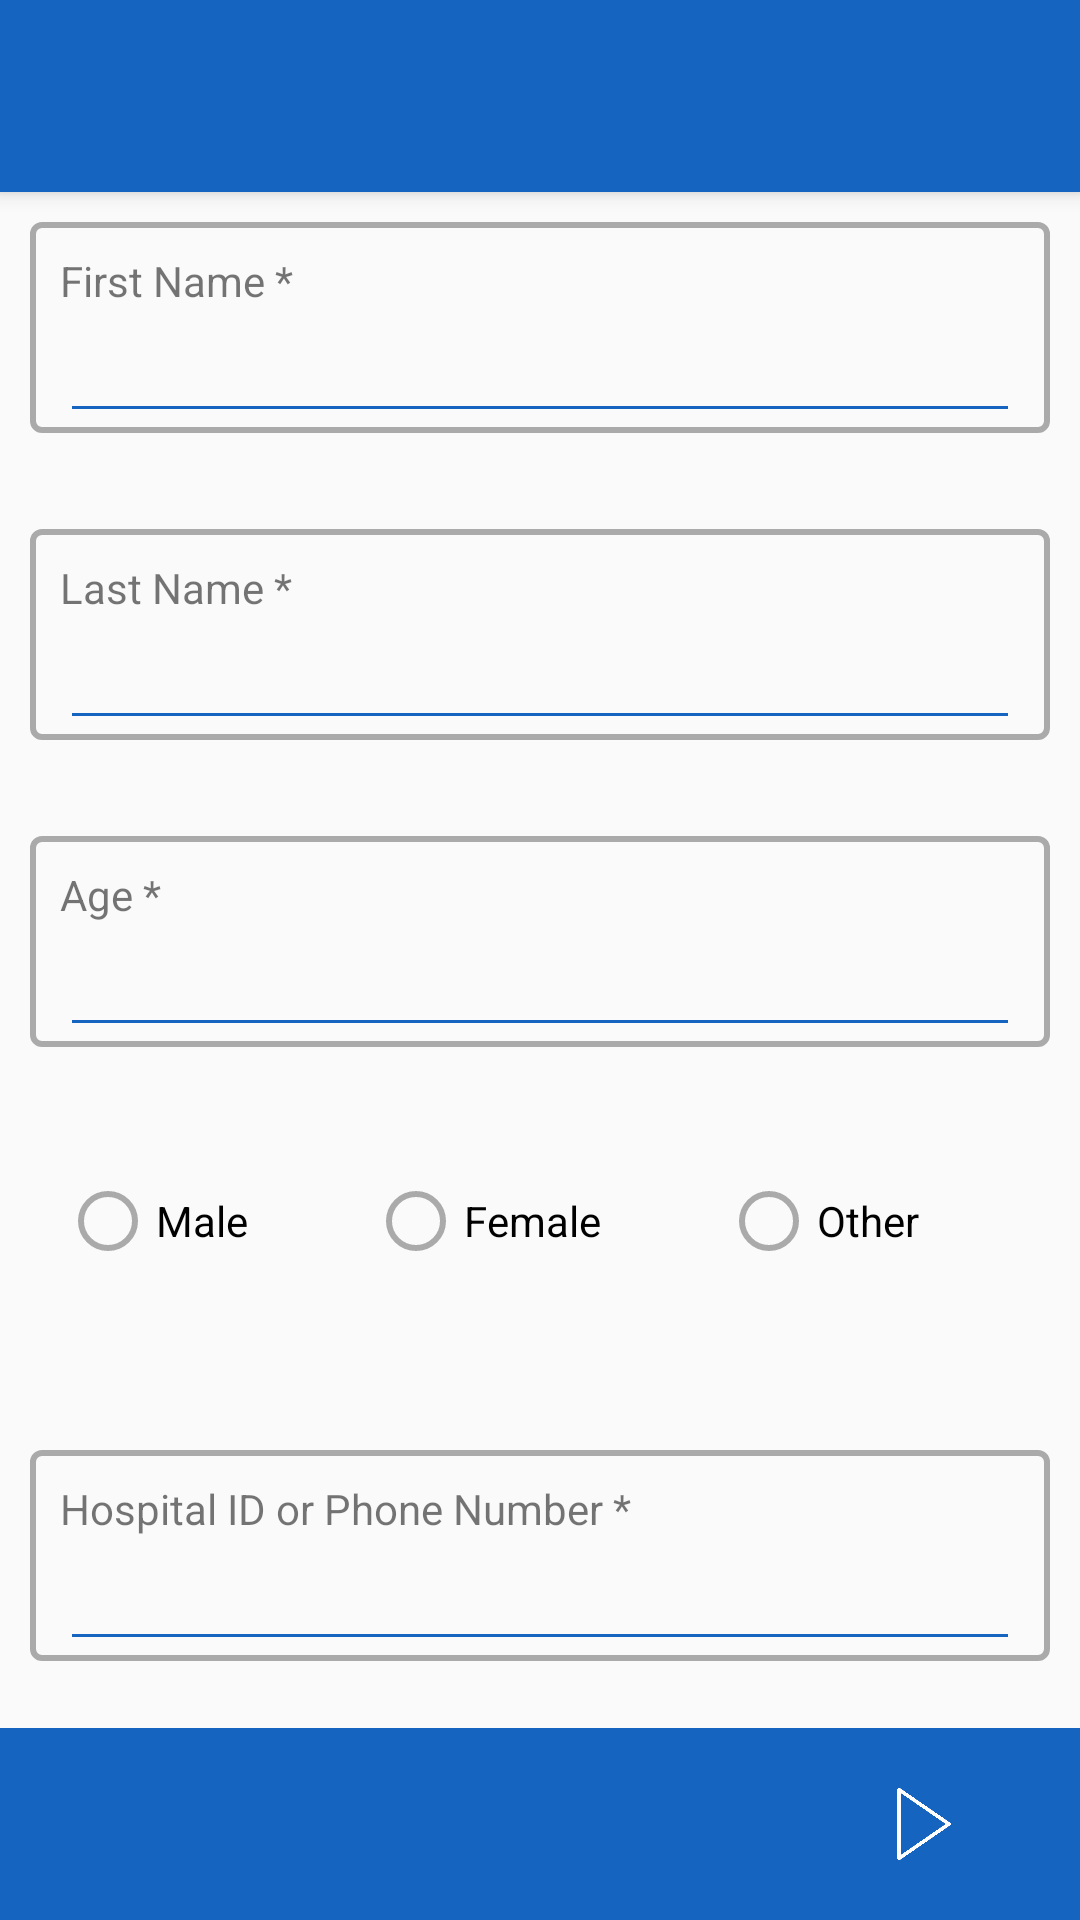

Screen size 1080*1920. Icon name, then its box in pixels as (x1, y1, x2, y2):
right: (897, 1788, 951, 1860)
